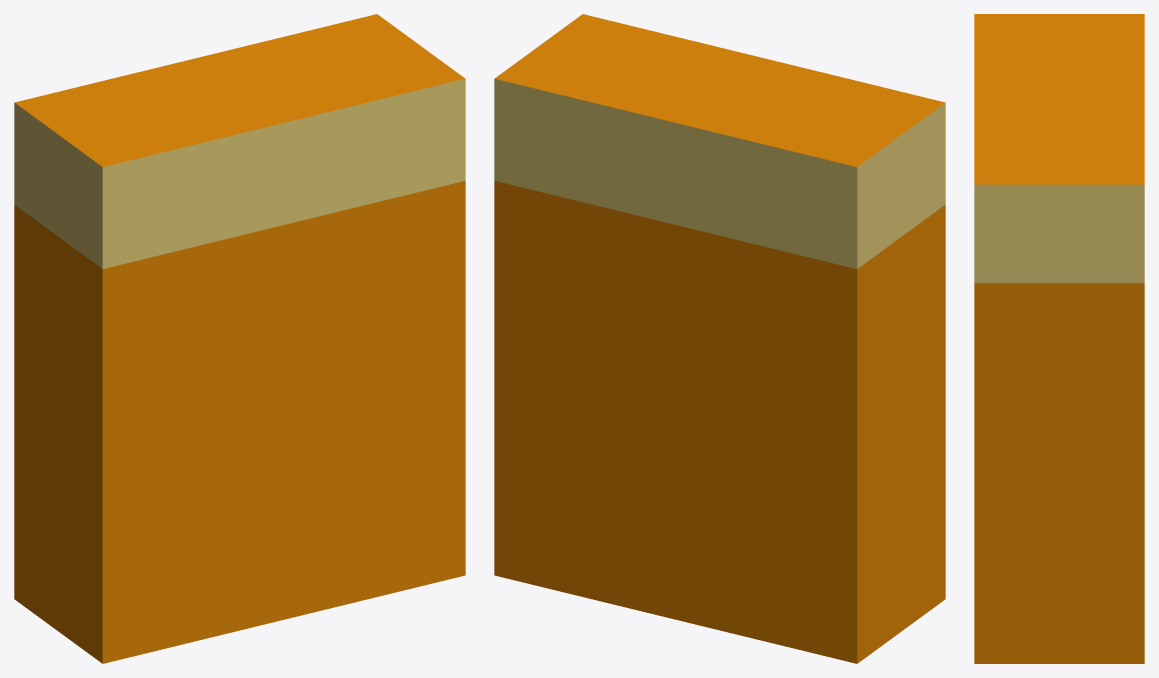
File: box_shop.fbx
3 renders of one model, left to right at view 1: azimuth 30°, elevation 25°; view 2: azimuth 150°, elevation 25°; view 3: azimuth 270°, elevation 25°, orthographic. The views are drawn at different scales.
Visible parts, largest first — view 1: box_shop; view 2: box_shop; view 3: box_shop.
Boxes of the visible parts, x1=… form: box_shop: x1=14, y1=14, x2=465, y2=663; box_shop: x1=494, y1=14, x2=945, y2=663; box_shop: x1=974, y1=14, x2=1144, y2=663.
Bounding box in the file's own units: 65.97 × 86.34 × 27.82.
